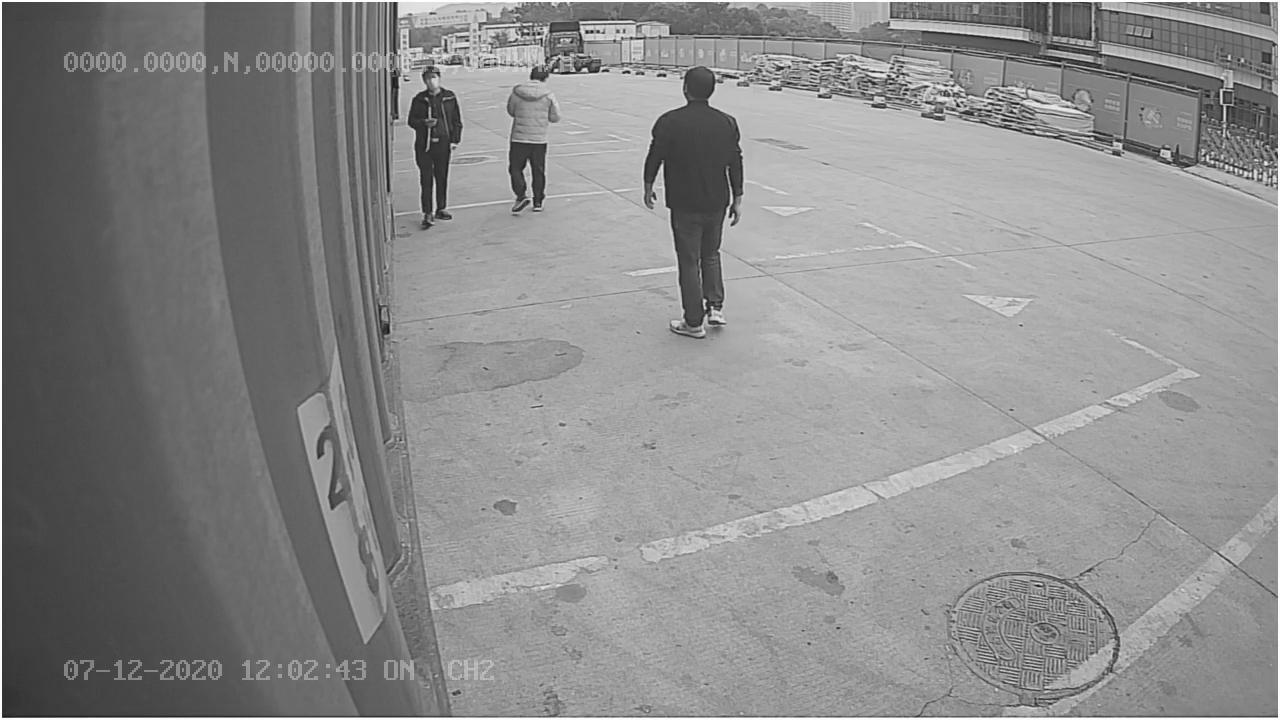person: (638, 62, 747, 340)
